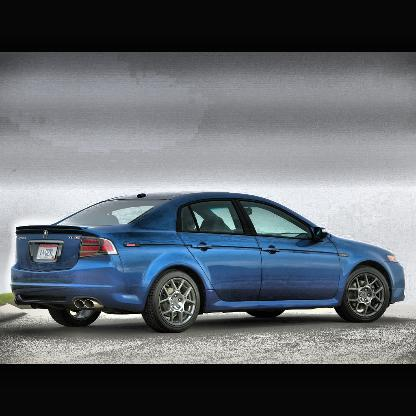Acura TL Type-S 2008: (11, 191, 407, 335)
